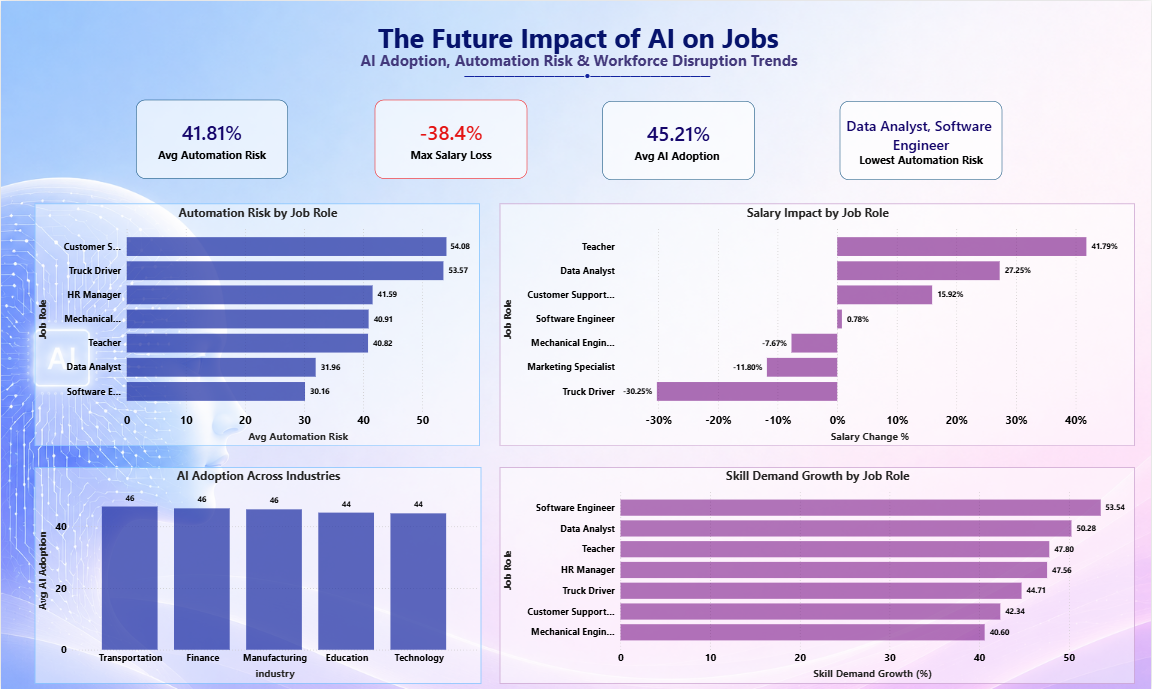

This screenshot's page, from the dashboard's own definition file:
{"tool":"powerbi","page":{"name":"AI Impact","canvas":[1840,1105],"ordinal":0},"visuals":[{"type":"textbox","box":[598,24,656,90],"z":0},{"type":"card","fields":{"Values":["ai_job_replacement_2020_2026_v2.Avg automation risk"]},"box":[217,157.9,243,126.7],"z":1000},{"type":"textbox","box":[570,56,720,90],"z":2000},{"type":"card","fields":{"Values":["ai_job_replacement_2020_2026_v2.Max salary loss new"]},"box":[598,158,244,126],"z":3000},{"type":"card","fields":{"Values":["Min(ai_job_replacement_2020_2026_v2.Avg adoption level)"]},"box":[962,160,244,126],"z":4000},{"type":"card","fields":{"Values":["ai_job_replacement_2020_2026_v2.Most AI-Resilient Role"]},"box":[1342,160,260,126],"z":5000},{"type":"textbox","box":[736,102,554,56],"z":6000},{"type":"columnChart","title":"AI Adoption Across Industries","fields":{"Y":["Avg(ai_job_replacement_2020_2026_v2.AI_adoption_level_correctd)"],"Category":["ai_job_replacement_2020_2026_v2.industry"]},"box":[54,746,714,346],"z":7000},{"type":"barChart","title":"Automation Risk by Job Role","fields":{"Category":["ai_job_replacement_2020_2026_v2.job_role"],"Y":["Avg(ai_job_replacement_2020_2026_v2.Automation risk   new)"]},"box":[54,324,712,388],"z":7001},{"type":"clusteredBarChart","title":"Salary Impact by Job Role","fields":{"Y":["Avg(ai_job_replacement_2020_2026_v2.salary_change_percenateg_corrected)"],"Category":["ai_job_replacement_2020_2026_v2.job_role"]},"box":[798,324,1016,388],"z":7002},{"type":"barChart","title":"Skill Demand Growth by Job Role","fields":{"Category":["ai_job_replacement_2020_2026_v2.job_role"],"Y":["Avg(ai_job_replacement_2020_2026_v2.skill demand growth new)"]},"box":[798,746,1016,346],"z":7003}]}

Visuals, with their boxes in screenshot pixels (x1, y1, x2, y2), scaled from the page's 1840x1105 canvas onto the 1152x689 screenshot:
textbox: pyautogui.locateOnScreen(374, 15, 785, 71)
card - ai_job_replacement_2020_2026_v2.Avg automation risk: pyautogui.locateOnScreen(136, 98, 288, 177)
textbox: pyautogui.locateOnScreen(357, 35, 808, 91)
card - ai_job_replacement_2020_2026_v2.Max salary loss new: pyautogui.locateOnScreen(374, 99, 527, 177)
card - Min(ai_job_replacement_2020_2026_v2.Avg adoption level): pyautogui.locateOnScreen(602, 100, 755, 178)
card - ai_job_replacement_2020_2026_v2.Most AI-Resilient Role: pyautogui.locateOnScreen(840, 100, 1003, 178)
textbox: pyautogui.locateOnScreen(461, 64, 808, 99)
"AI Adoption Across Industries" columnChart: pyautogui.locateOnScreen(34, 465, 481, 681)
"Automation Risk by Job Role" barChart: pyautogui.locateOnScreen(34, 202, 480, 444)
"Salary Impact by Job Role" clusteredBarChart: pyautogui.locateOnScreen(500, 202, 1136, 444)
"Skill Demand Growth by Job Role" barChart: pyautogui.locateOnScreen(500, 465, 1136, 681)
